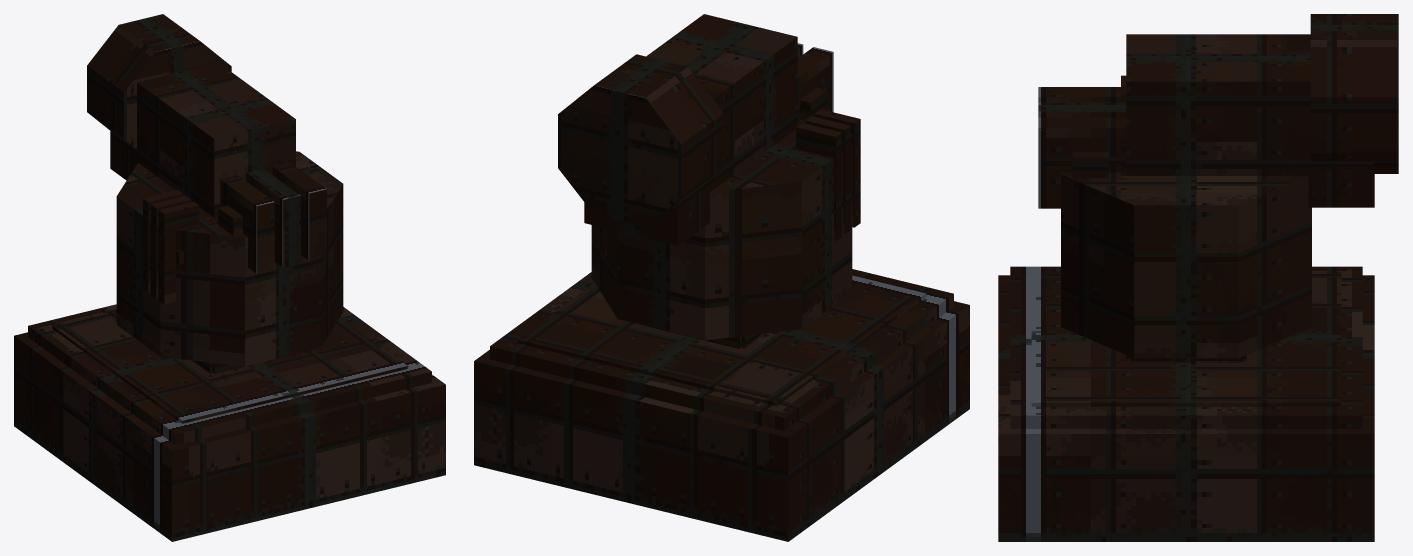
File: enemy_role_artillery.glb
3 renders of one model, left to right at view 1: azimuth 30°, elevation 25°; view 2: azimuth 150°, elevation 25°; view 3: azimuth 270°, elevation 25°, orthographic. The views are drawn at different scales.
Visible parts, largest first — view 1: enemy_role_artillery; view 2: enemy_role_artillery; view 3: enemy_role_artillery.
Boxes of the visible parts, left/top/right/bottom form: enemy_role_artillery: left=14, top=14, right=445, bottom=541; enemy_role_artillery: left=474, top=14, right=969, bottom=541; enemy_role_artillery: left=998, top=14, right=1398, bottom=541.
Size of the model in its own units: 1.18 by 1.5 by 1.25.
Materials: 4 (4 with a texture image).
